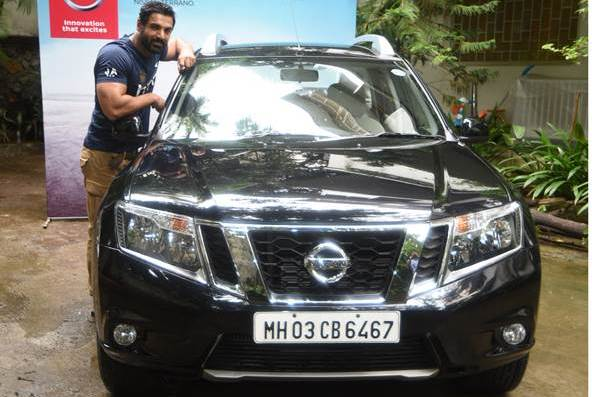number_plate: (245, 306, 409, 348)
